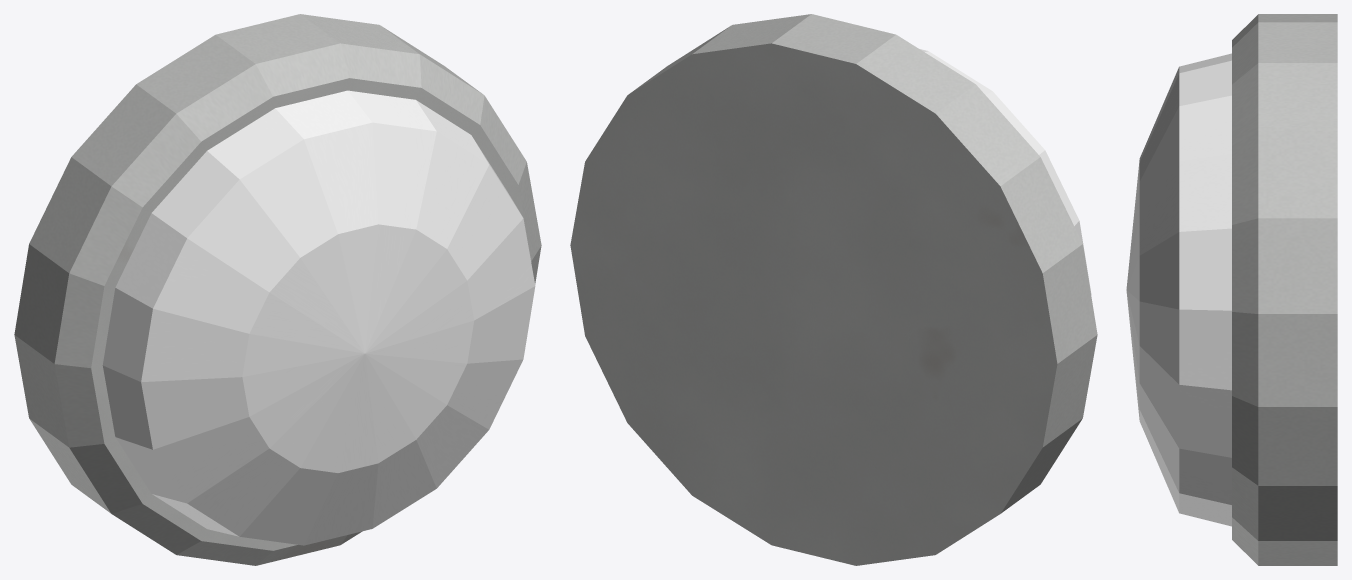
File: lamp.gltf
The picture shows the model from 3 angles, left to right: view 1: azimuth 30°, elevation 25°; view 2: azimuth 150°, elevation 25°; view 3: azimuth 270°, elevation 25°; orthographic projection.
Parts seen in each view (by area): view 1: jx_lamp; view 2: jx_lamp; view 3: jx_lamp.
Boxes of the visible parts, x1,y1,x2,y2 form: jx_lamp: [14, 14, 541, 565]; jx_lamp: [570, 14, 1097, 565]; jx_lamp: [1126, 14, 1337, 565].
Size of the model in its own units: 0.42 by 0.4136 by 0.16.
2 materials, 2 textured.
